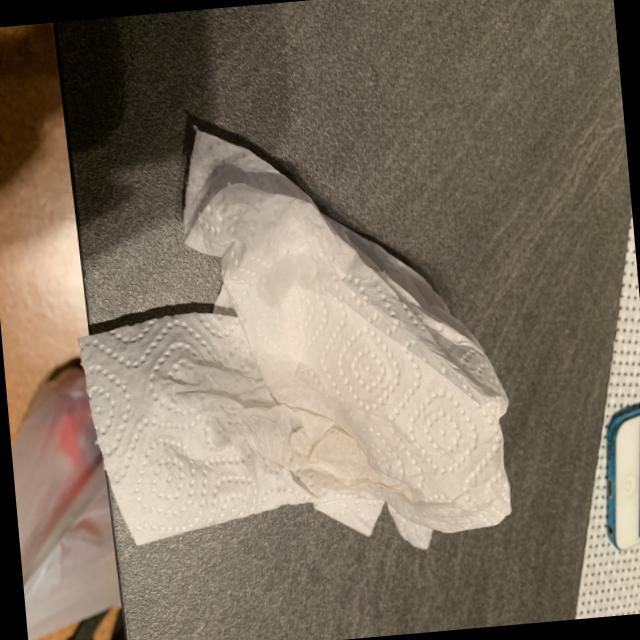organic waste: (54, 89, 526, 578)
